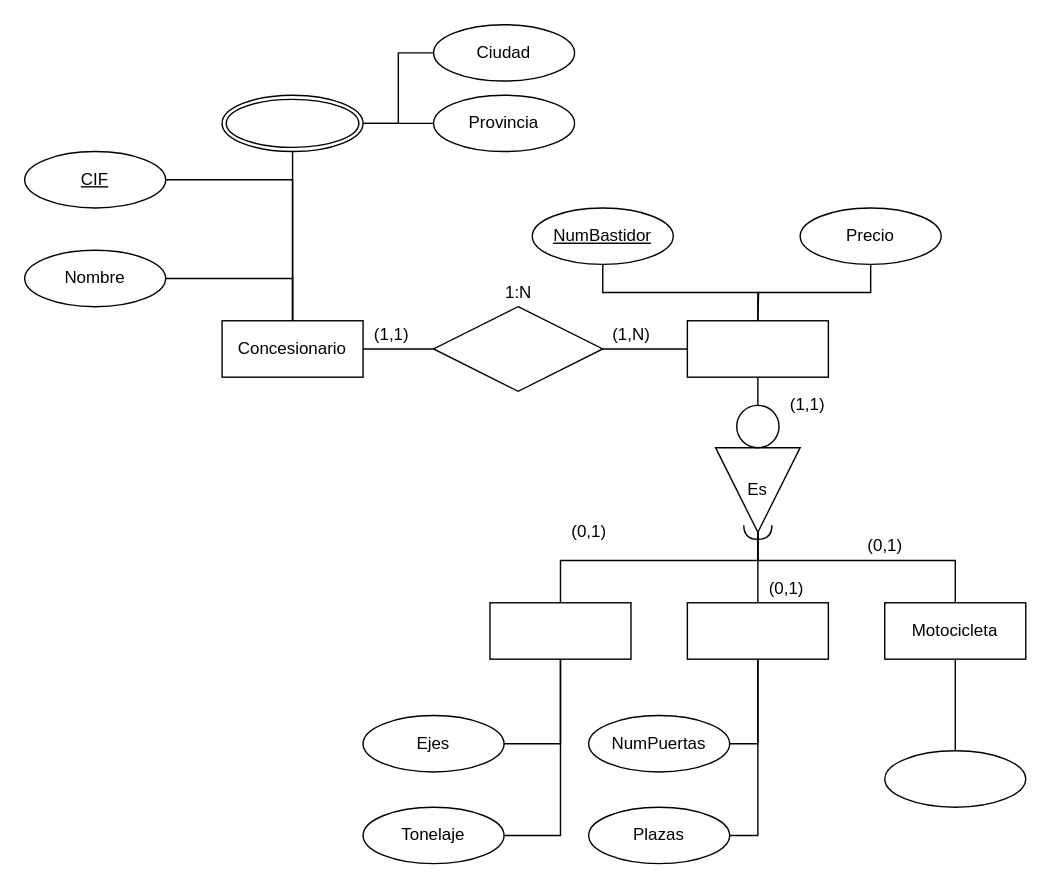
Some shapes in this 1050 by 888 pixel diagram are drawn without their labels. Each missing label, with the centre of its shape:
"Camiones" goes at point 560,630.
"Cilindrada" goes at point 954,778.
"Direccion" goes at point 292,123.
"Turismos" goes at point 757,630.
"vehiculo" goes at point 757,348.
"Vende" goes at point 517,348.
